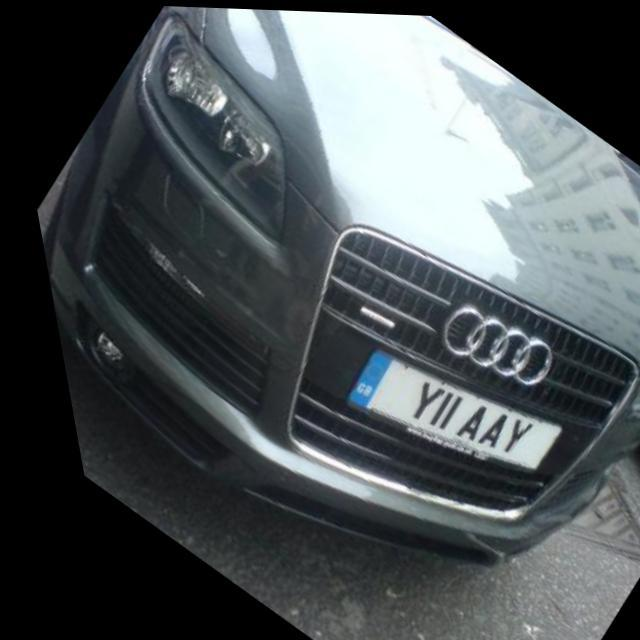license_plate: (315, 305, 562, 518)
